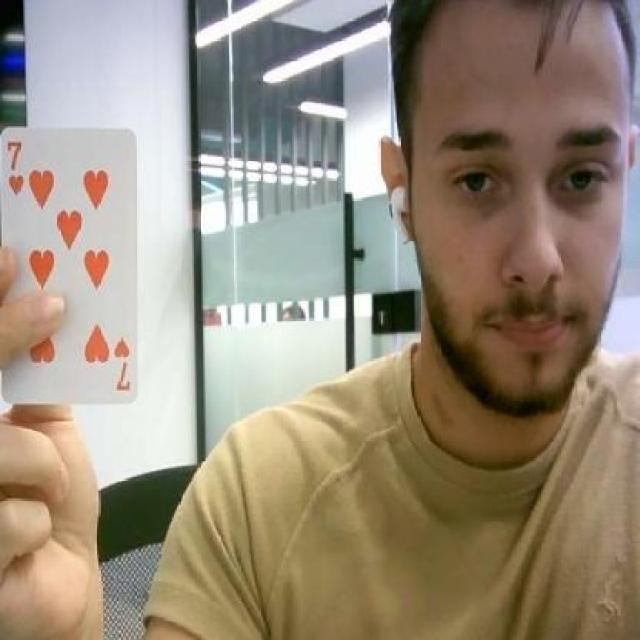7H: (111, 335, 131, 393), (7, 138, 24, 197)
